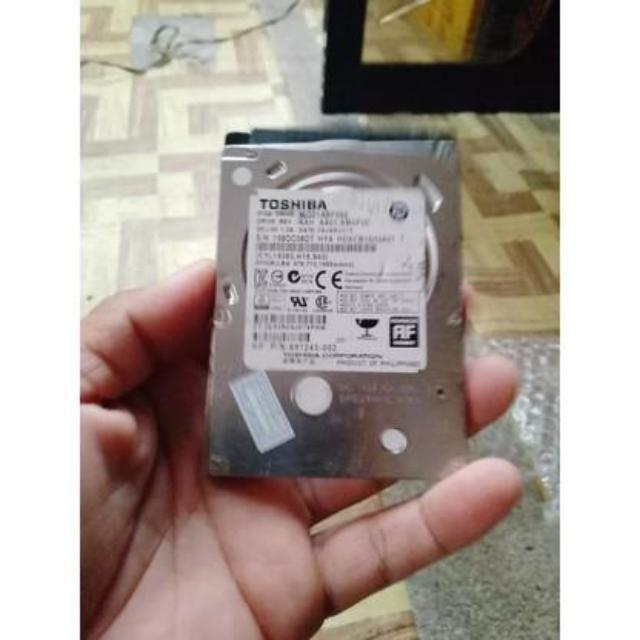DISK: (204, 124, 472, 492)
